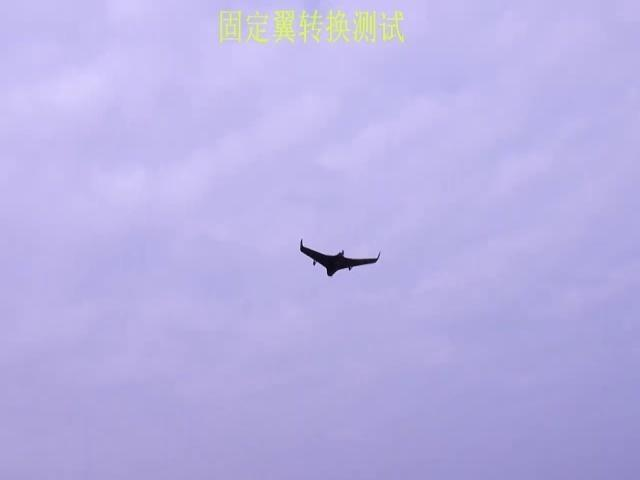Airplane: (300, 238, 380, 277)
